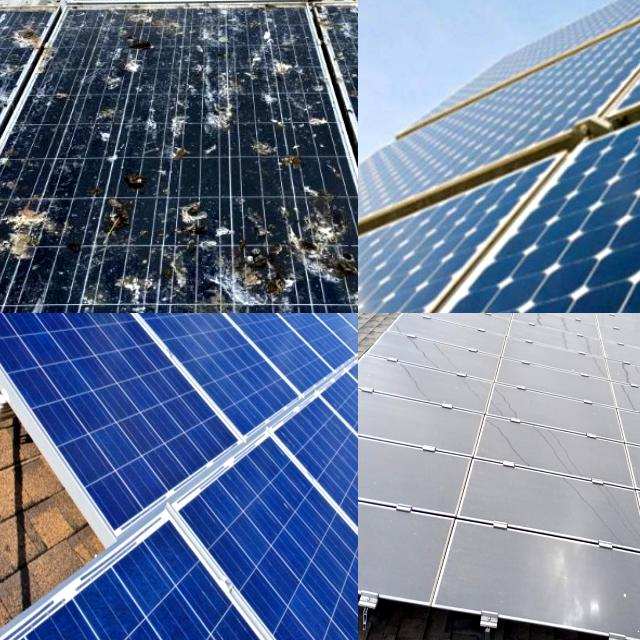bird: (170, 184, 282, 300), (181, 88, 326, 172), (153, 8, 284, 72), (292, 193, 358, 308), (80, 155, 156, 243), (0, 182, 52, 298), (0, 12, 59, 84), (0, 37, 32, 144), (147, 0, 260, 29), (0, 189, 29, 257)
crack: (358, 0, 640, 313), (0, 313, 251, 542), (145, 443, 358, 640), (59, 313, 325, 469), (228, 359, 358, 640), (142, 313, 358, 431)
dust: (540, 525, 640, 633), (358, 493, 375, 569)
